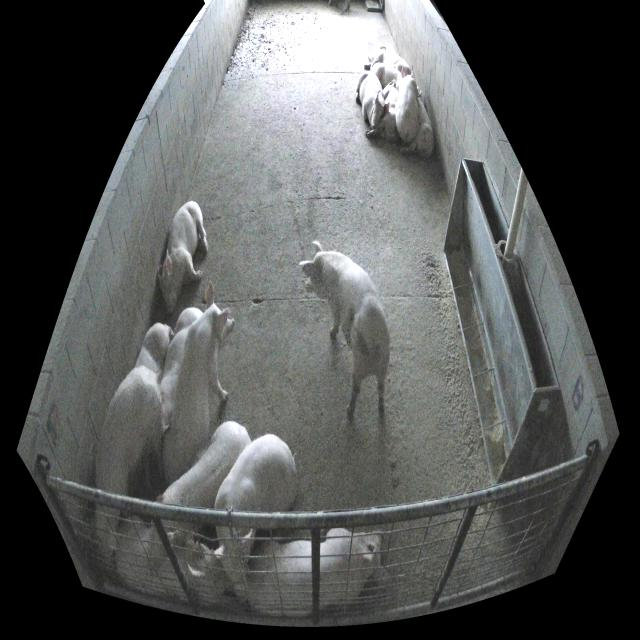pig: (299, 241, 390, 423), (147, 421, 250, 570), (164, 281, 234, 488), (215, 433, 298, 595), (96, 366, 162, 551), (248, 529, 383, 617), (115, 517, 234, 604), (158, 201, 208, 315), (159, 307, 204, 432), (134, 323, 174, 383), (366, 80, 399, 142), (356, 71, 389, 129), (395, 65, 419, 143), (407, 90, 434, 157), (364, 45, 412, 74), (372, 63, 402, 92)
